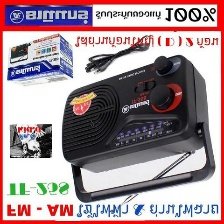book: (4, 30, 77, 90)
